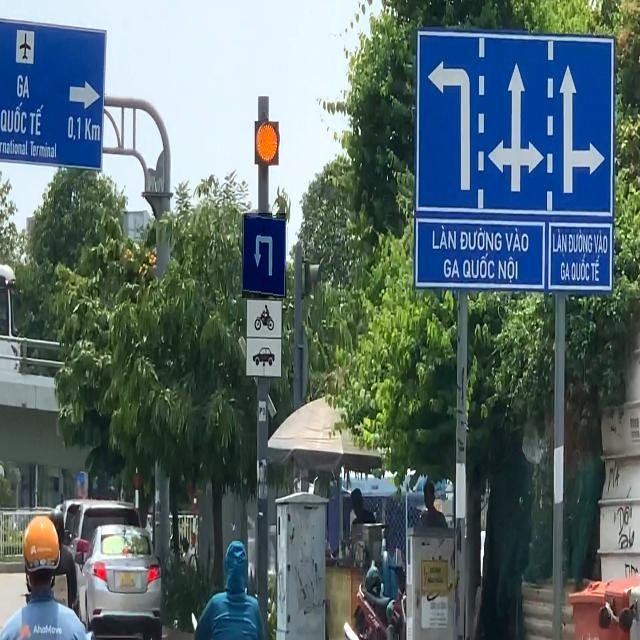bien_chi_dan: (242, 213, 286, 298)
